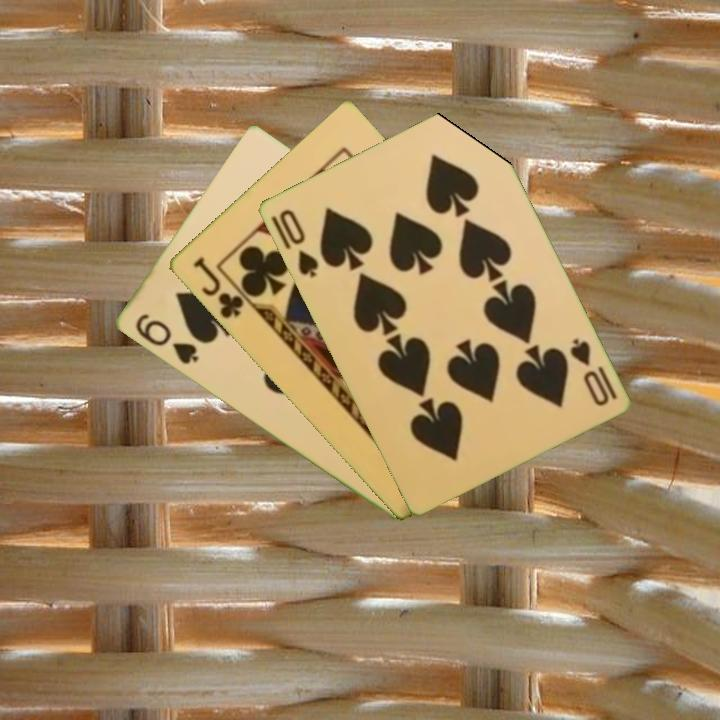10s: (565, 334, 620, 409), (275, 205, 321, 281)
6s: (131, 310, 201, 368)
Jc: (188, 253, 247, 322)
